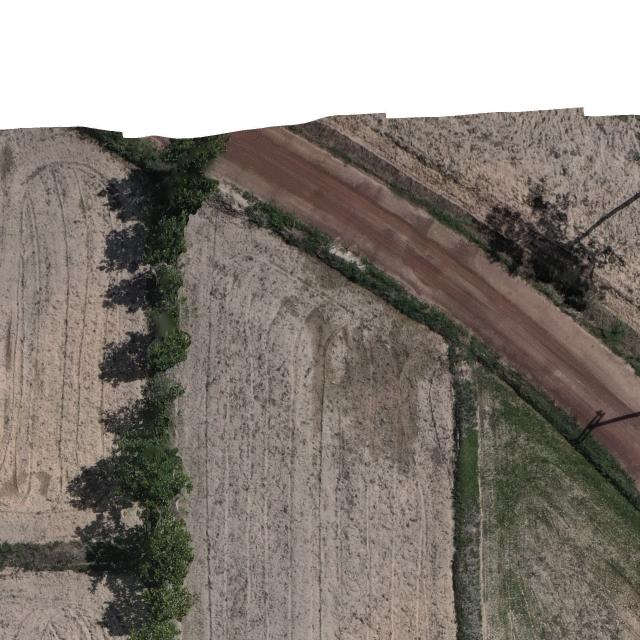Tree: (112, 445, 195, 520), (134, 518, 196, 588), (145, 260, 185, 332), (166, 131, 233, 173), (164, 170, 220, 215), (144, 210, 190, 263), (138, 585, 202, 623), (143, 328, 195, 374), (141, 381, 190, 414), (128, 619, 195, 640), (137, 415, 175, 448)
